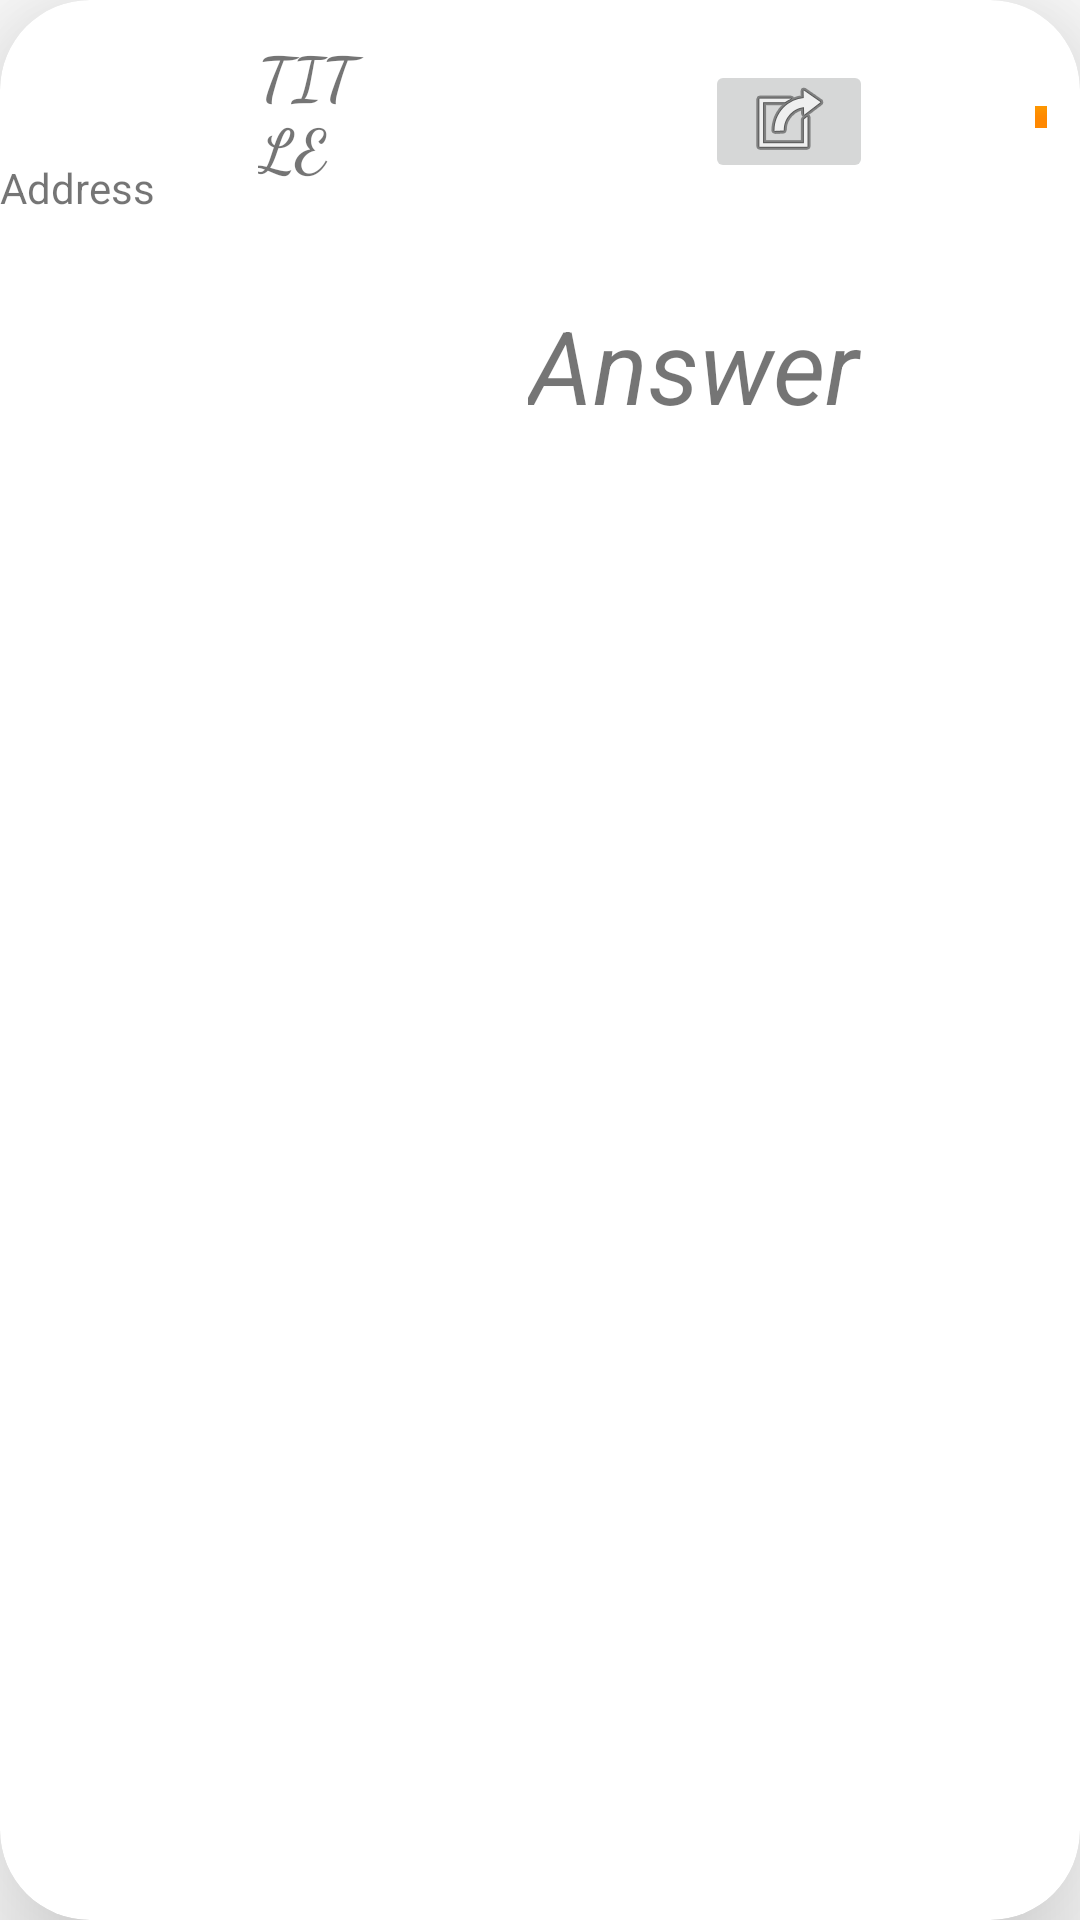

Icon click points for this 1080px x 1920px phone screenshot, format (x,y):
set as: (789,121)
